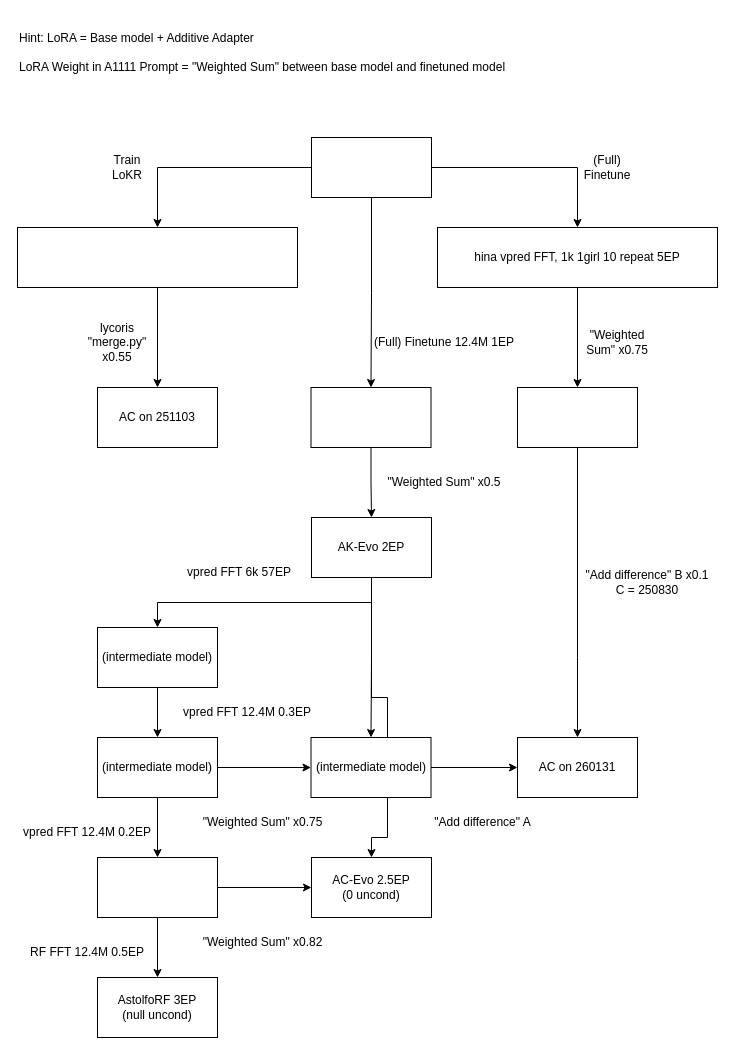
The diagram is 735 pixels wide and 1055 high, and some of its shapes have lost their labels. The centre of each missing label's shape, as x and y in pixels:
AC-hinaFT on 251117: (577,417)
AK-NIL1.5 v1.2 on 250830: (371,167)
AstolfoVL 2.5EP (null uncond): (157,887)
AstolfoXL 2EP: (370,417)
hinaAstolfoXL_NIL15_v12_vpred_Lora_v41: (157,257)
